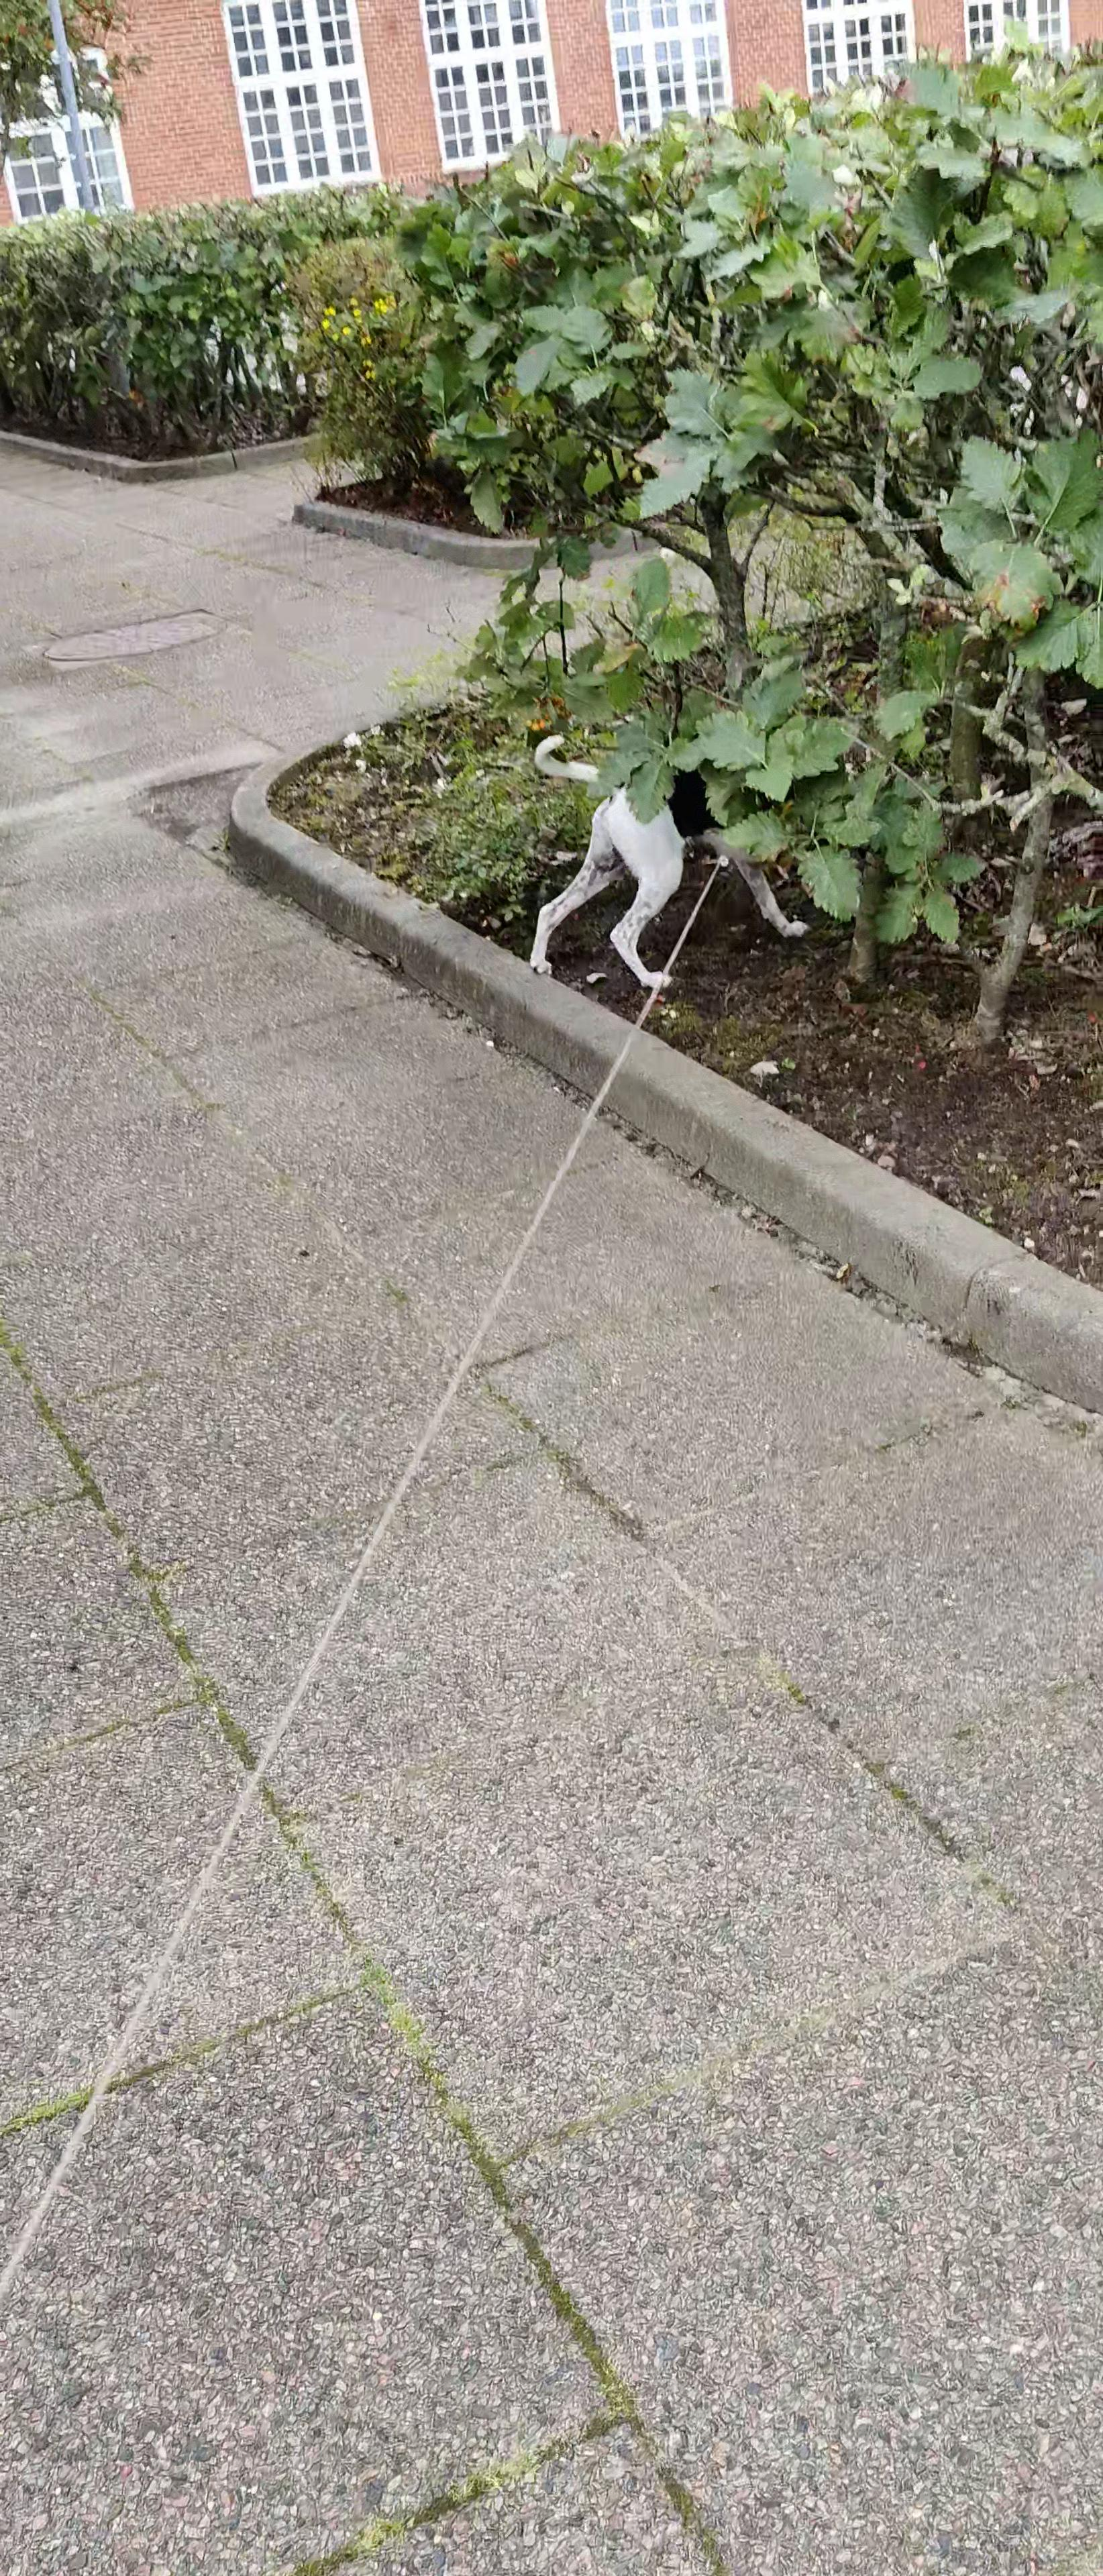Dog: (519, 716, 848, 997)
